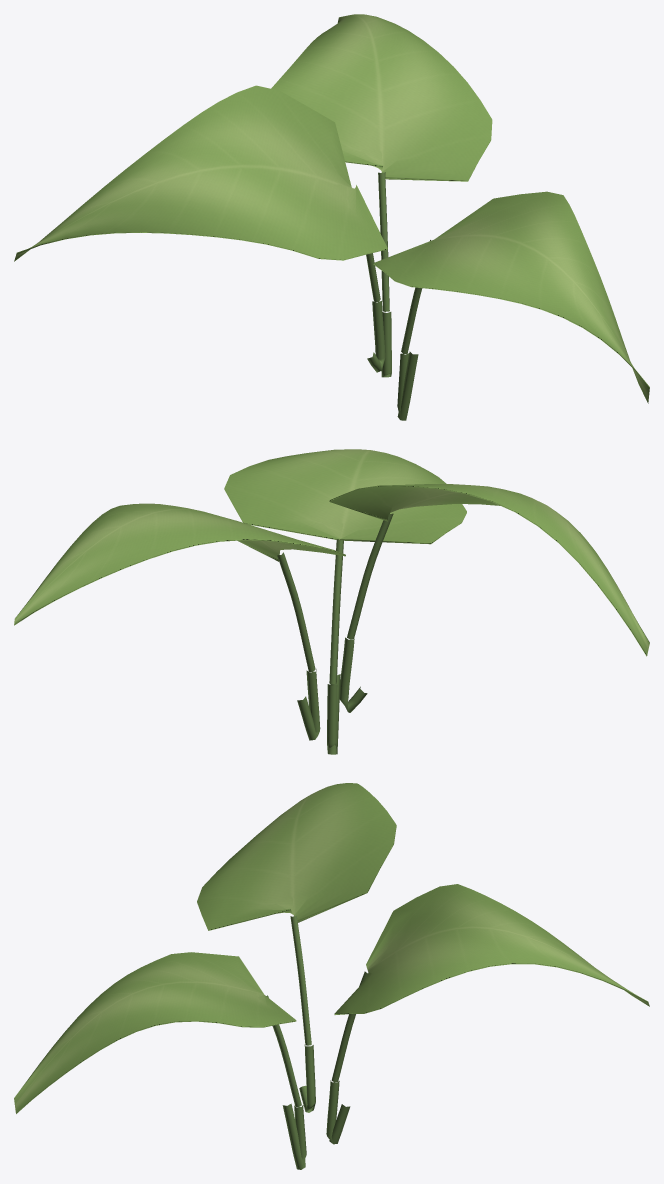
Rendered from syngonium-stage-1.glb.
3 views of the same model, one above another, from view 1: azimuth 30°, elevation 25°; view 2: azimuth 150°, elevation 25°; view 3: azimuth 270°, elevation 25° (orthographic). The views are drawn at different scales.
Visible parts, largest first — view 1: Leaf_2, Leaf_1, Leaf_0, PlantBranches; view 2: Leaf_0, Leaf_1, Leaf_2, PlantBranches; view 3: Leaf_2, Leaf_1, Leaf_0, PlantBranches.
Boxes of the visible parts, x1,y1,x2,y2 form: Leaf_2: (14, 85, 387, 261); Leaf_1: (271, 14, 492, 181); Leaf_0: (373, 191, 649, 403); PlantBranches: (366, 172, 430, 420); Leaf_0: (224, 449, 466, 544); Leaf_1: (14, 503, 345, 625); Leaf_2: (329, 484, 649, 656); PlantBranches: (277, 513, 393, 754); Leaf_2: (197, 783, 396, 930); Leaf_1: (334, 884, 649, 1014); Leaf_0: (14, 952, 296, 1113); PlantBranches: (266, 916, 367, 1169).
Bounding box in the file's own units: 1.31 × 0.8429 × 1.6.
Materials: 2 (1 with a texture image).
